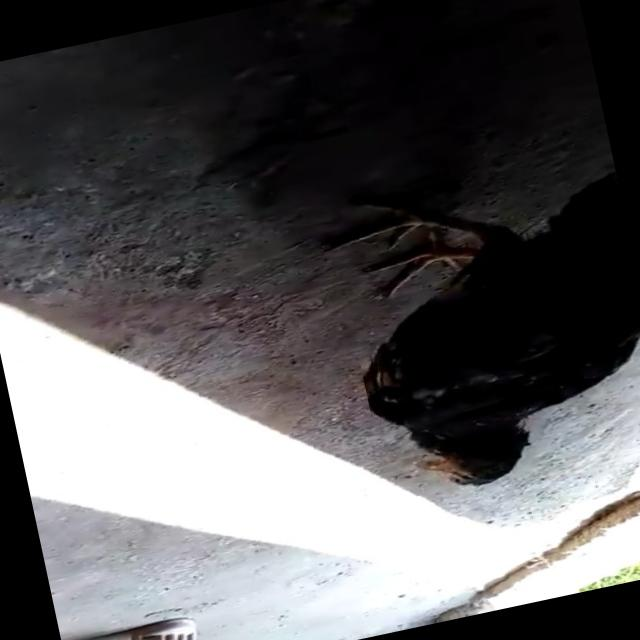newcastle: (344, 140, 640, 518)
